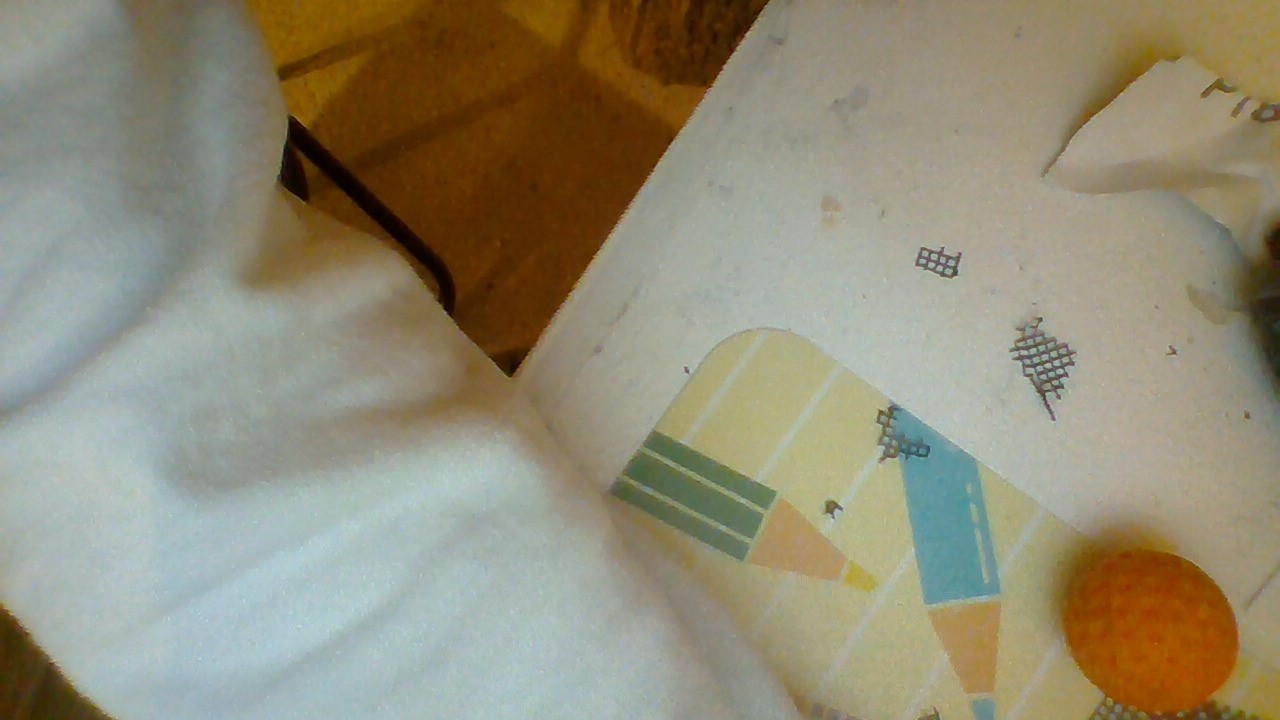ball: (1063, 547, 1238, 711)
